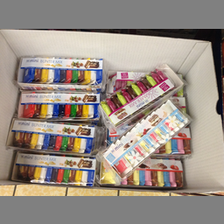chocolate: (102, 103, 189, 177), (101, 67, 177, 127), (5, 117, 99, 155), (9, 151, 99, 188), (15, 56, 106, 91), (17, 89, 101, 120)
